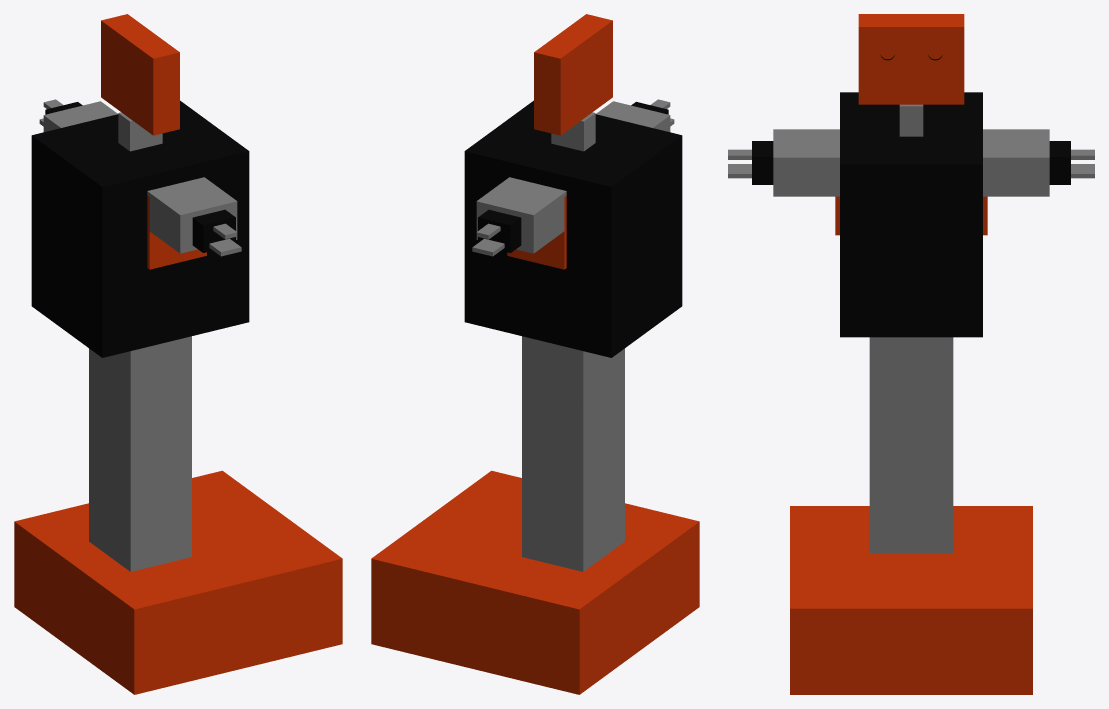
File: tangerine.dae
3 renders of one model, left to right at view 1: azimuth 30°, elevation 25°; view 2: azimuth 150°, elevation 25°; view 3: azimuth 270°, elevation 25°, orthographic.
Visible parts, largest first — view 1: base_link_robot, superior_link, base_laser, head, upper_base_laser, right_shoulder_y_revolute, left_shoulder_y_revolute, wrist_left_arm, right_shoulder_link, neck_link; view 2: base_link_robot, superior_link, base_laser, head, upper_base_laser, left_shoulder_y_revolute, right_shoulder_y_revolute, wrist_right_arm, left_shoulder_link, neck_link; view 3: base_link_robot, superior_link, base_laser, head, left_shoulder_y_revolute, right_shoulder_y_revolute, upper_base_laser, wrist_left_arm, wrist_right_arm, neck_link.
Boxes of the visible parts, <box> form: base_link_robot: <box>14,470,342,694</box>; superior_link: <box>31,100,249,357</box>; base_laser: <box>89,371,191,571</box>; head: <box>101,14,179,135</box>; upper_base_laser: <box>89,336,191,400</box>; right_shoulder_y_revolute: <box>147,177,237,253</box>; left_shoulder_y_revolute: <box>43,101,117,132</box>; wrist_left_arm: <box>192,209,235,252</box>; right_shoulder_link: <box>147,195,206,269</box>; neck_link: <box>118,112,162,151</box>; base_link_robot: <box>371,470,699,694</box>; superior_link: <box>464,100,682,357</box>; base_laser: <box>522,371,624,571</box>; head: <box>534,14,612,135</box>; upper_base_laser: <box>522,336,624,400</box>; left_shoulder_y_revolute: <box>476,177,566,253</box>; right_shoulder_y_revolute: <box>596,101,670,131</box>; wrist_right_arm: <box>478,209,521,252</box>; left_shoulder_link: <box>507,195,566,269</box>; neck_link: <box>551,112,595,151</box>; base_link_robot: <box>790,506,1032,694</box>; superior_link: <box>840,92,982,337</box>; base_laser: <box>869,381,953,553</box>; head: <box>858,14,964,104</box>; left_shoulder_y_revolute: <box>983,129,1049,196</box>; right_shoulder_y_revolute: <box>773,129,839,196</box>; upper_base_laser: <box>869,337,953,380</box>; wrist_left_arm: <box>752,141,773,184</box>; wrist_right_arm: <box>1049,141,1070,184</box>; neck_link: <box>899,104,923,136</box>.
Size of the model in its own units: 0.528 by 0.77 by 1.4.
